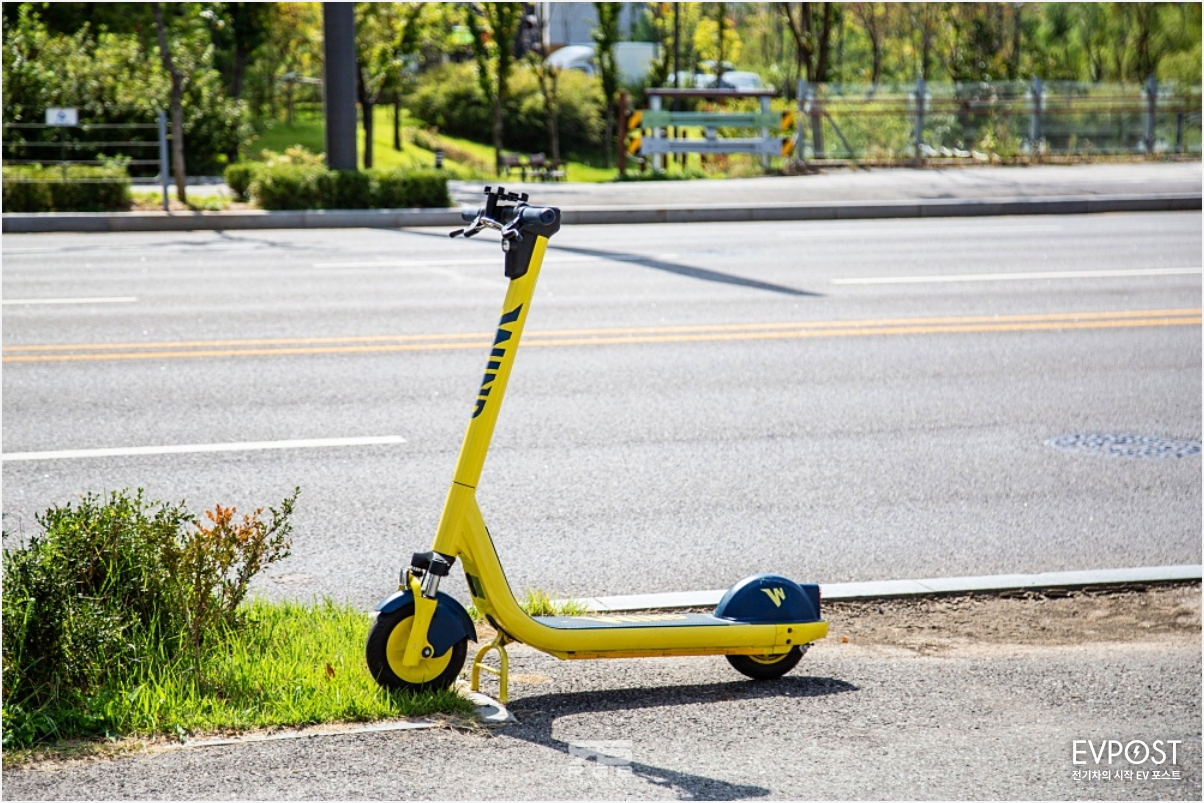scooter: (377, 199, 827, 704)
